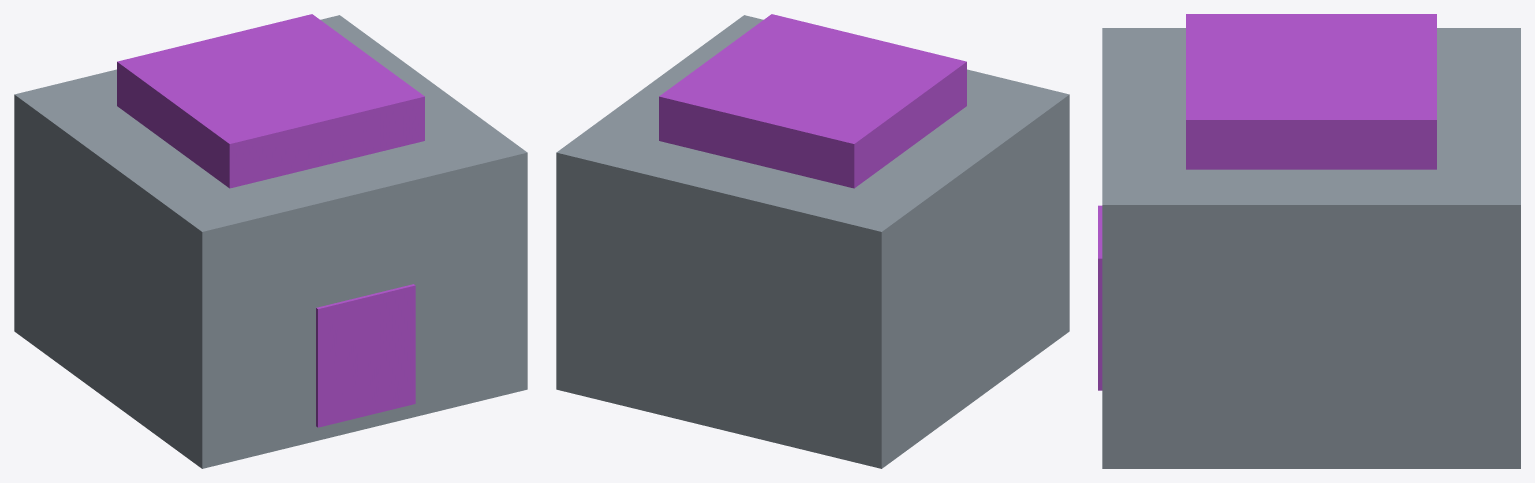
The model's file is CH_SuperweaponRewind_LOD0.glb.
3 views of the same model, side by side, from view 1: azimuth 30°, elevation 25°; view 2: azimuth 150°, elevation 25°; view 3: azimuth 270°, elevation 25° (orthographic). The views are drawn at different scales.
Visible parts, largest first — view 1: EntranceGate; view 2: EntranceGate; view 3: EntranceGate.
Part boxes in pixels (bbox=[...]): EntranceGate: bbox=[14, 14, 527, 468]; EntranceGate: bbox=[556, 14, 1069, 468]; EntranceGate: bbox=[1098, 14, 1520, 468].
Size of the model in its own units: 1000 by 826 by 1010.
